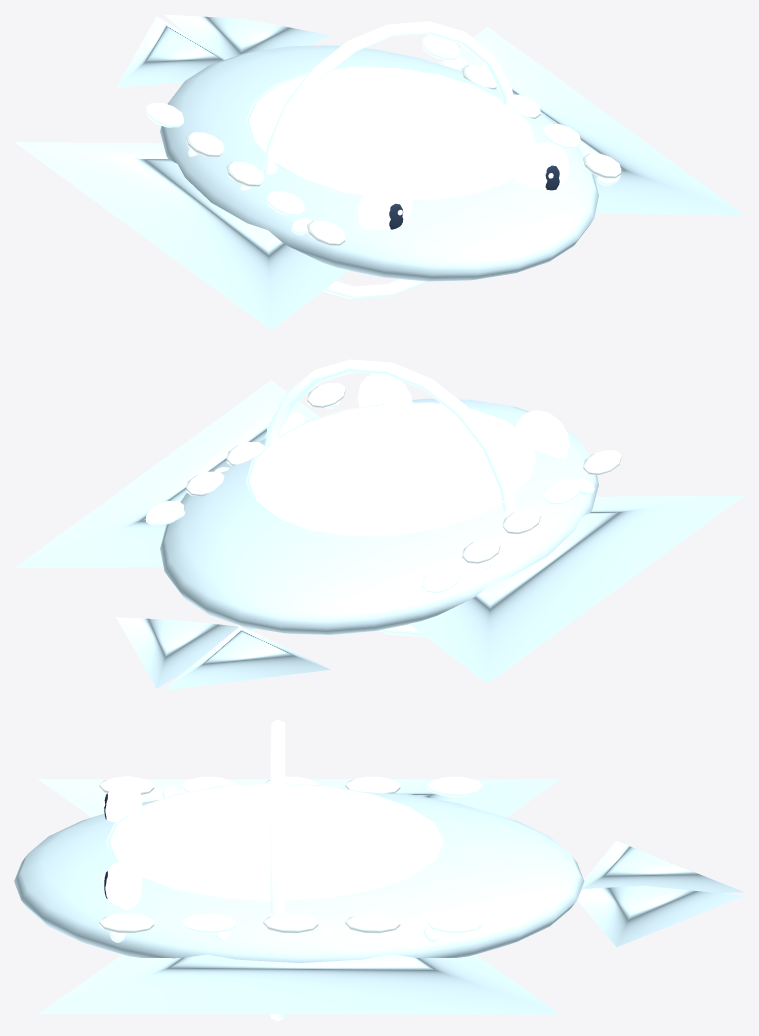
Rendered from frost-mantle.glb.
3 views of the same model, one above another, from view 1: azimuth 30°, elevation 25°; view 2: azimuth 150°, elevation 25°; view 3: azimuth 270°, elevation 25° (orthographic).
Visible parts, largest first — view 1: ray-body, dorsal-glow, swim-fin--1-blade, swim-fin-1-blade, luminous-halo, tail-lobe--1, tail-lobe-1, eye-glow--1, eye-glow-1, weak-point-eye--1, weak-point-eye-1, scale-1-0 (+8 smaller); view 2: ray-body, dorsal-glow, swim-fin--1-blade, swim-fin-1-blade, luminous-halo, tail-lobe--1, tail-lobe-1, eye-glow--1, eye-glow-1, scale--1-0, scale-1-0, scale--1-3 (+6 smaller); view 3: ray-body, dorsal-glow, swim-fin-1-blade, tail-lobe-1, swim-fin--1-blade, tail-lobe--1, luminous-halo, eye-glow-1, scale-1-3, scale--1-4, scale-1-4, scale-1-0 (+5 smaller).
Part boxes in pixels (bbox=[...]): ray-body: bbox=[160, 45, 598, 281]; dorsal-glow: bbox=[246, 66, 536, 200]; swim-fin--1-blade: bbox=[14, 142, 349, 330]; swim-fin-1-blade: bbox=[439, 26, 744, 214]; luminous-halo: bbox=[263, 21, 515, 299]; tail-lobe--1: bbox=[116, 16, 225, 87]; tail-lobe-1: bbox=[164, 14, 330, 59]; eye-glow--1: bbox=[357, 180, 413, 229]; eye-glow-1: bbox=[514, 142, 569, 184]; weak-point-eye--1: bbox=[370, 191, 410, 230]; weak-point-eye-1: bbox=[527, 153, 566, 189]; scale-1-0: bbox=[583, 153, 621, 178]; ray-body: bbox=[160, 398, 598, 634]; dorsal-glow: bbox=[246, 402, 536, 536]; swim-fin--1-blade: bbox=[409, 495, 744, 683]; swim-fin-1-blade: bbox=[14, 380, 319, 568]; luminous-halo: bbox=[264, 359, 516, 636]; tail-lobe--1: bbox=[164, 625, 330, 690]; tail-lobe-1: bbox=[116, 617, 254, 688]; eye-glow--1: bbox=[515, 410, 569, 458]; eye-glow-1: bbox=[357, 373, 412, 407]; scale--1-0: bbox=[583, 450, 621, 474]; scale-1-0: bbox=[307, 383, 345, 407]; scale--1-3: bbox=[462, 539, 500, 563]; ray-body: bbox=[14, 788, 584, 962]; dorsal-glow: bbox=[106, 783, 443, 900]; swim-fin-1-blade: bbox=[38, 954, 560, 1014]; tail-lobe-1: bbox=[577, 885, 744, 947]; swim-fin--1-blade: bbox=[38, 779, 560, 817]; tail-lobe--1: bbox=[580, 841, 744, 893]; luminous-halo: bbox=[270, 719, 285, 1021]; eye-glow-1: bbox=[118, 853, 142, 909]; scale-1-3: bbox=[345, 913, 400, 933]; scale--1-4: bbox=[427, 776, 482, 796]; scale-1-4: bbox=[427, 913, 482, 933]; scale-1-0: bbox=[99, 913, 154, 933].
Bounding box in the file's own units: 2.3 × 1.26 × 3.02.
